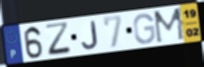6: (23, 25, 44, 60)
7: (101, 13, 126, 51)
G: (132, 12, 157, 45)
J: (81, 19, 100, 50)
M: (152, 6, 187, 45)
Z: (44, 20, 74, 57)
